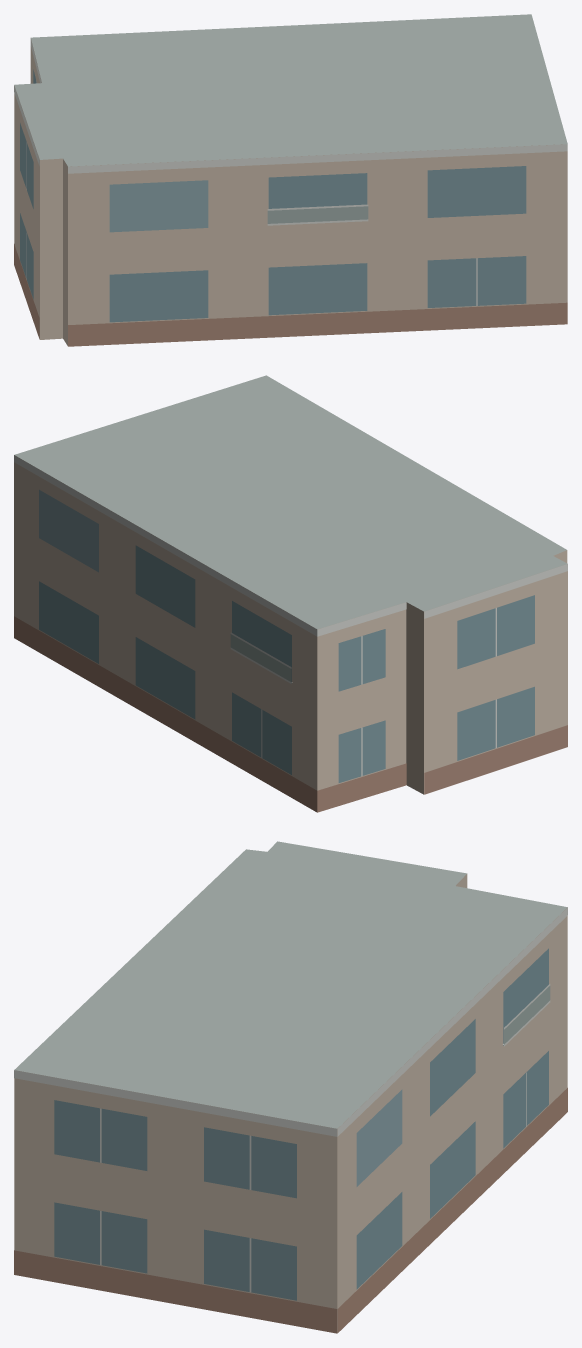
Rendered from survey-upis-32540324.glb.
3 views of the same model, one above another, from view 1: azimuth 30°, elevation 25°; view 2: azimuth 150°, elevation 25°; view 3: azimuth 270°, elevation 25° (orthographic). The views are drawn at different scales.
Parts seen in each view (by area): view 1: survey-upis-32540324.tmp; view 2: survey-upis-32540324.tmp; view 3: survey-upis-32540324.tmp.
Boxes of the visible parts, <box> form: survey-upis-32540324.tmp: <box>14,14,567,346</box>; survey-upis-32540324.tmp: <box>14,375,567,812</box>; survey-upis-32540324.tmp: <box>14,841,567,1333</box>.
Size of the model in its own units: 18.37 by 6.1 by 14.96.
